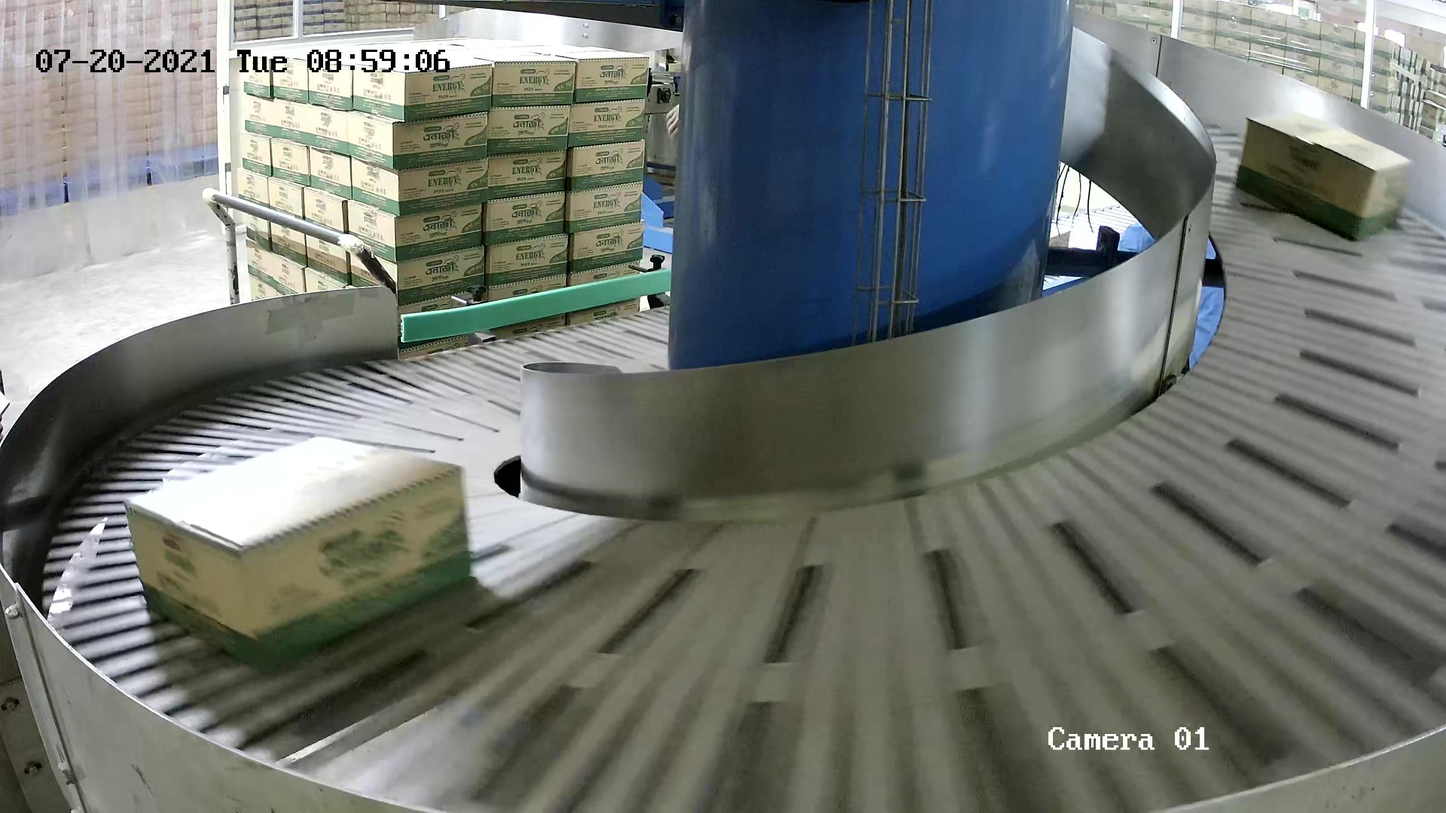Box: (121, 434, 473, 666), (1235, 112, 1413, 242)
